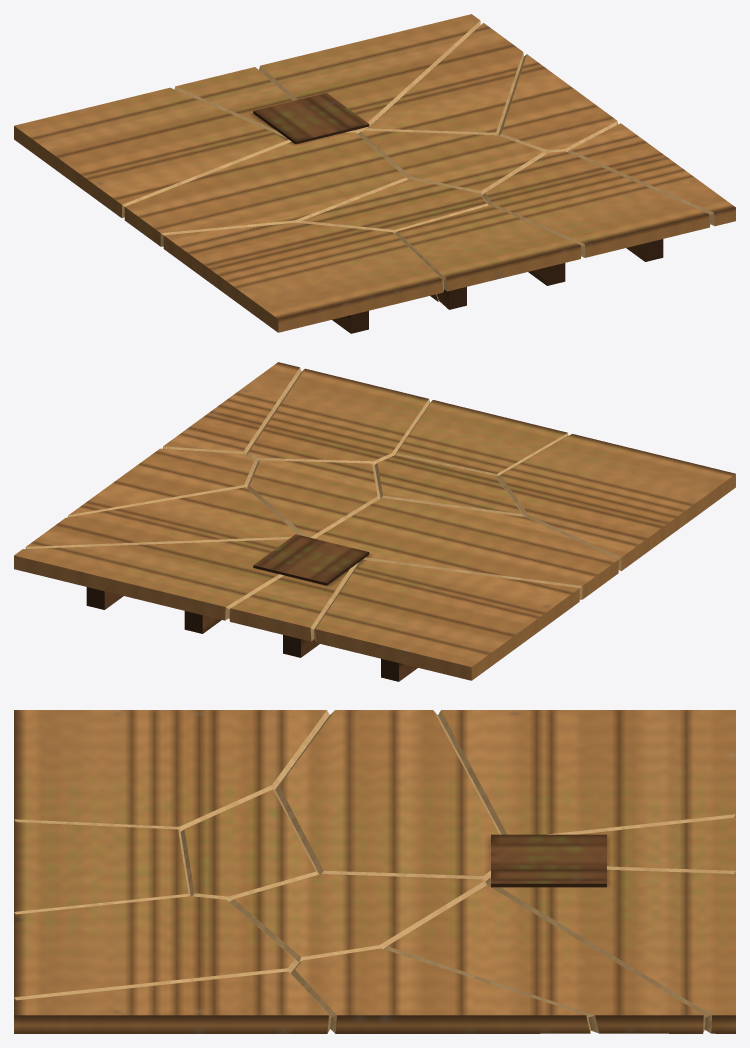
Rendered from Kit_Keep_Floor_Fractured.fbx.
The picture shows the model from 3 angles, top to bottom: view 1: azimuth 30°, elevation 25°; view 2: azimuth 150°, elevation 25°; view 3: azimuth 270°, elevation 25°; orthographic projection. The views are drawn at different scales.
Visible parts, largest first — view 1: Kit_Keep_Floor_frag_08, Kit_Keep_Floor_frag_02, Kit_Keep_Floor_frag_07, Kit_Keep_Floor_frag_12, Kit_Keep_Floor_frag_01, Kit_Keep_Floor_frag_11, Kit_Keep_Floor_frag_03, Kit_Keep_Floor_frag_10, Kit_Keep_Floor_frag_05, Kit_Keep_Floor_frag_06, Kit_Keep_Floor_frag_09, Kit_Keep_Floor_frag_04; view 2: Kit_Keep_Floor_frag_02, Kit_Keep_Floor_frag_08, Kit_Keep_Floor_frag_07, Kit_Keep_Floor_frag_01, Kit_Keep_Floor_frag_12, Kit_Keep_Floor_frag_03, Kit_Keep_Floor_frag_05, Kit_Keep_Floor_frag_11, Kit_Keep_Floor_frag_10, Kit_Keep_Floor_frag_06, Kit_Keep_Floor_frag_04, Kit_Keep_Floor_frag_09; view 3: Kit_Keep_Floor_frag_02, Kit_Keep_Floor_frag_08, Kit_Keep_Floor_frag_07, Kit_Keep_Floor_frag_12, Kit_Keep_Floor_frag_01, Kit_Keep_Floor_frag_03, Kit_Keep_Floor_frag_06, Kit_Keep_Floor_frag_09, Kit_Keep_Floor_frag_11, Kit_Keep_Floor_frag_10, Kit_Keep_Floor_frag_05, Kit_Keep_Floor_frag_04.
Part boxes in pixels (<box>): Kit_Keep_Floor_frag_08: <box>163,222,444,333</box>; Kit_Keep_Floor_frag_02: <box>14,87,291,217</box>; Kit_Keep_Floor_frag_07: <box>124,132,408,246</box>; Kit_Keep_Floor_frag_12: <box>482,151,710,261</box>; Kit_Keep_Floor_frag_01: <box>259,14,480,133</box>; Kit_Keep_Floor_frag_11: <box>395,205,581,309</box>; Kit_Keep_Floor_frag_03: <box>365,23,524,135</box>; Kit_Keep_Floor_frag_10: <box>358,130,546,194</box>; Kit_Keep_Floor_frag_05: <box>174,67,369,144</box>; Kit_Keep_Floor_frag_06: <box>498,54,617,153</box>; Kit_Keep_Floor_frag_09: <box>567,123,735,226</box>; Kit_Keep_Floor_frag_04: <box>299,179,488,233</box>; Kit_Keep_Floor_frag_02: <box>314,559,579,681</box>; Kit_Keep_Floor_frag_08: <box>497,434,735,571</box>; Kit_Keep_Floor_frag_07: <box>315,498,618,599</box>; Kit_Keep_Floor_frag_01: <box>14,539,287,633</box>; Kit_Keep_Floor_frag_12: <box>246,368,430,464</box>; Kit_Keep_Floor_frag_03: <box>25,487,298,548</box>; Kit_Keep_Floor_frag_05: <box>229,534,369,657</box>; Kit_Keep_Floor_frag_11: <box>395,400,568,477</box>; Kit_Keep_Floor_frag_10: <box>247,460,380,538</box>; Kit_Keep_Floor_frag_06: <box>68,448,257,517</box>; Kit_Keep_Floor_frag_04: <box>374,455,524,516</box>; Kit_Keep_Floor_frag_09: <box>163,362,301,454</box>; Kit_Keep_Floor_frag_02: <box>438,710,735,834</box>; Kit_Keep_Floor_frag_08: <box>14,710,329,831</box>; Kit_Keep_Floor_frag_07: <box>275,710,501,881</box>; Kit_Keep_Floor_frag_12: <box>14,896,298,1000</box>; Kit_Keep_Floor_frag_01: <box>485,869,735,1033</box>; Kit_Keep_Floor_frag_03: <box>384,885,705,1033</box>; Kit_Keep_Floor_frag_06: <box>291,948,590,1033</box>; Kit_Keep_Floor_frag_09: <box>14,971,331,1033</box>; Kit_Keep_Floor_frag_11: <box>14,822,190,914</box>; Kit_Keep_Floor_frag_10: <box>229,874,486,962</box>; Kit_Keep_Floor_frag_05: <box>491,817,735,887</box>; Kit_Keep_Floor_frag_04: <box>180,789,319,901</box>.
Size of what is drawn, in the model's own units: 5.6 by 0.4107 by 5.6.
2 materials, 2 textured.
